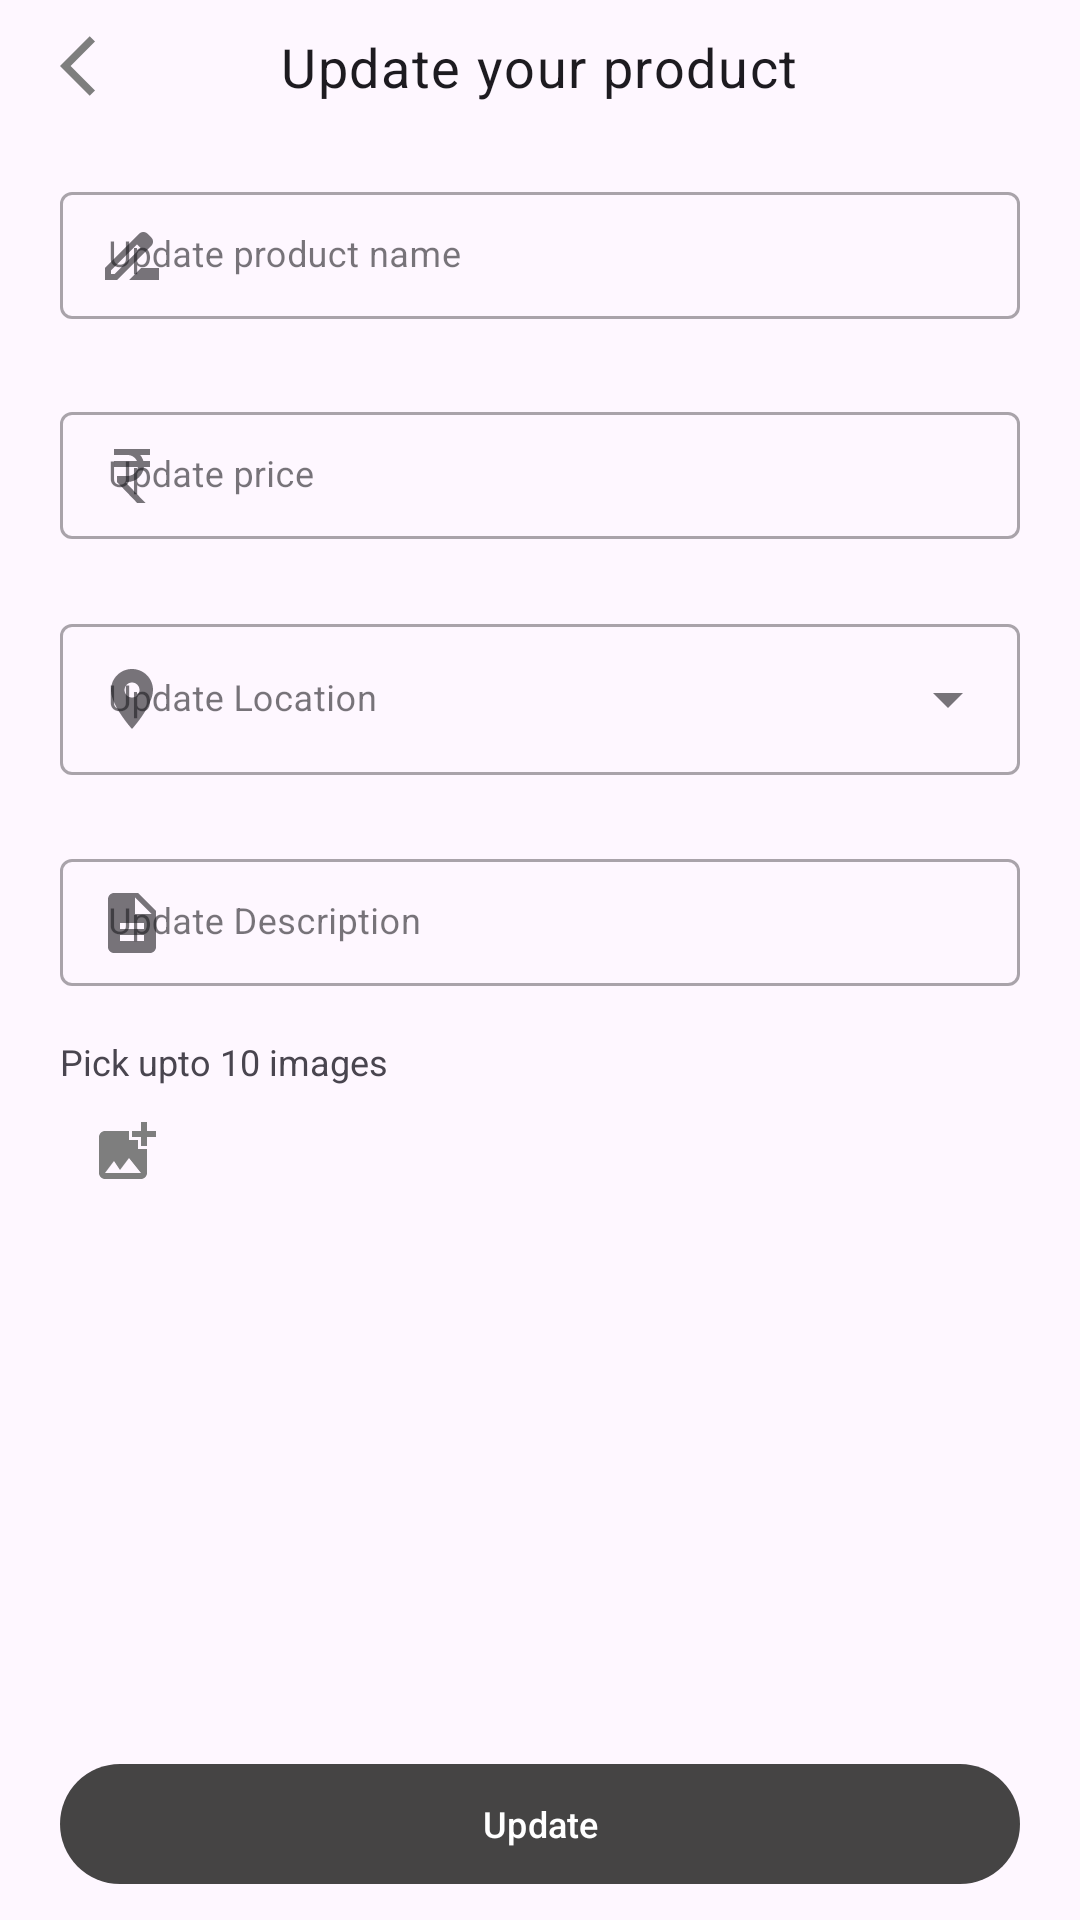

Screen size 1080 x 1920. Icon name, then its center in pixels as (x,y):
add photo alternate: (127,1150)
arrow back: (77,66)
